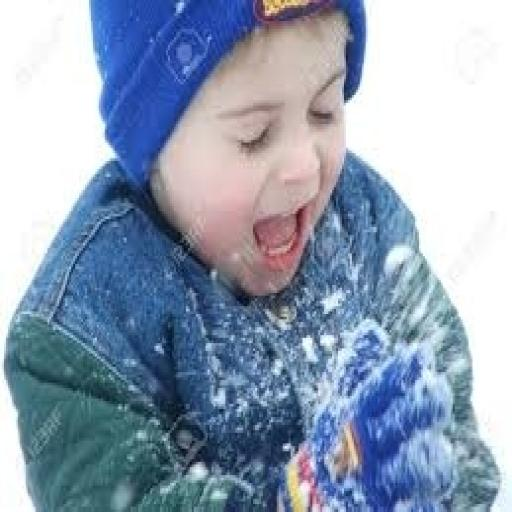clapping: (2, 0, 502, 509)
